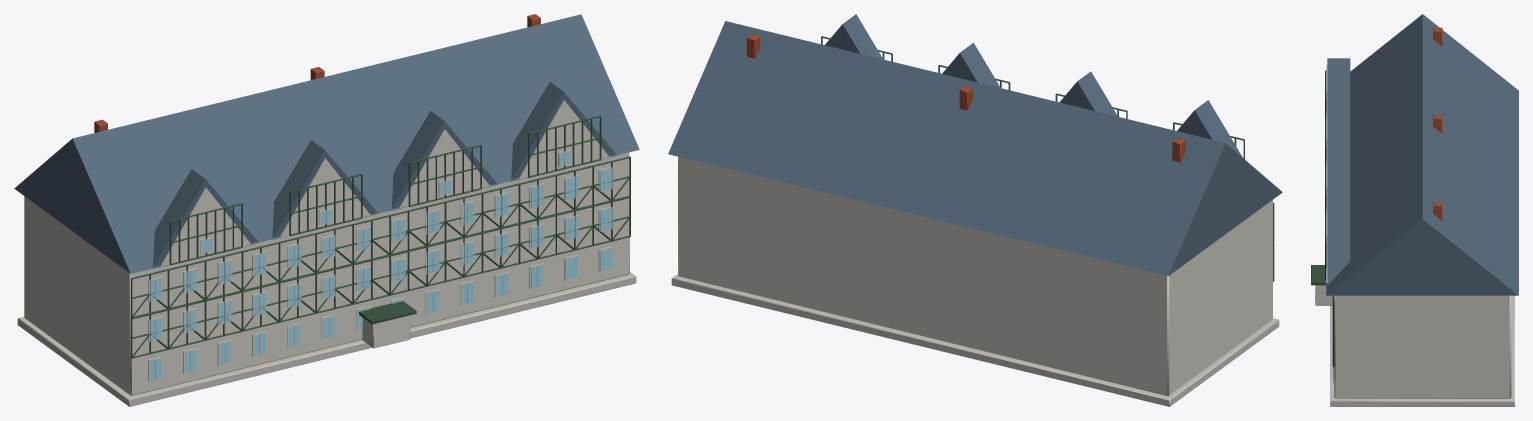
File: 122_hotel_normandy.fbx
The picture shows the model from 3 angles, left to right: view 1: azimuth 30°, elevation 25°; view 2: azimuth 150°, elevation 25°; view 3: azimuth 270°, elevation 25°; orthographic projection. The views are drawn at different scales.
Visible parts, largest first — view 1: Murs, Toits, Colombages, Vitres; view 2: Toits, Murs, Colombages; view 3: Toits, Murs, Colombages.
Boxes of the visible parts, bbox=[...] form: Murs: bbox=[17, 14, 636, 406]; Toits: bbox=[14, 14, 639, 273]; Colombages: bbox=[131, 115, 630, 358]; Vitres: bbox=[150, 151, 612, 380]; Toits: bbox=[668, 14, 1282, 275]; Murs: bbox=[671, 34, 1279, 406]; Colombages: bbox=[821, 36, 1274, 281]; Toits: bbox=[1326, 14, 1518, 295]; Murs: bbox=[1311, 27, 1514, 406]; Colombages: bbox=[1325, 70, 1334, 367].
Size of the model in its own units: 19.6 by 8.4 by 8.4.
Materials: 1 (1 with a texture image).
